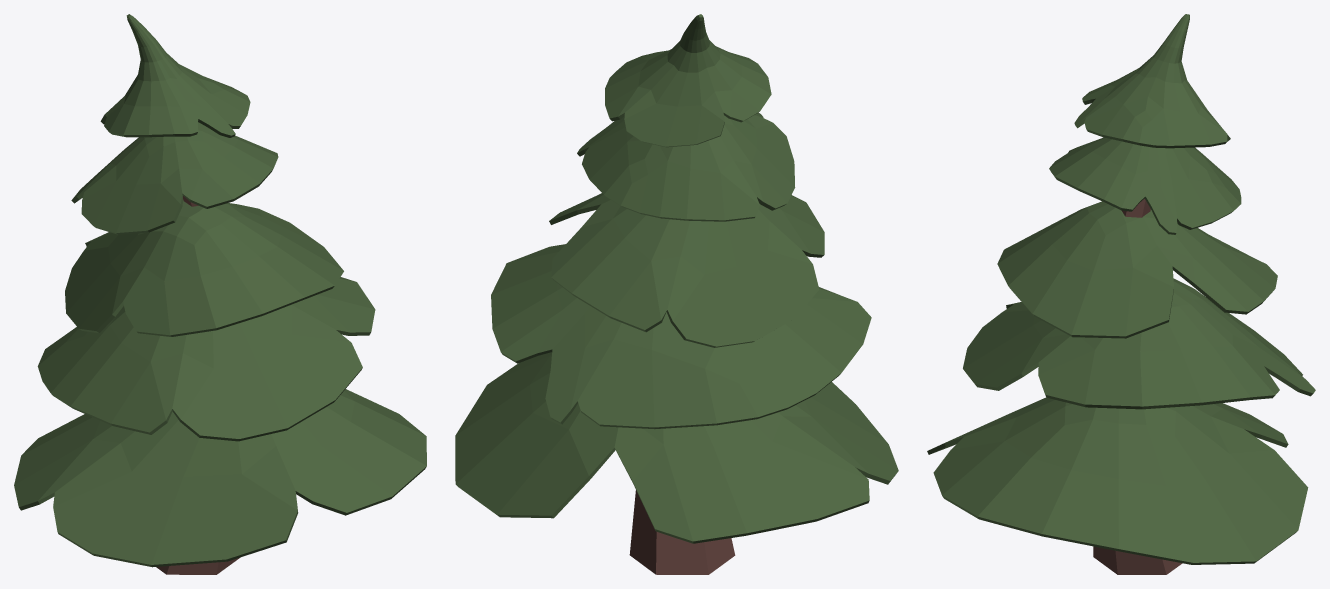
The model's file is PineTree_1.gltf.
The picture shows the model from 3 angles, left to right: view 1: azimuth 30°, elevation 25°; view 2: azimuth 150°, elevation 25°; view 3: azimuth 270°, elevation 25°; orthographic projection. The views are drawn at different scales.
Visible parts, largest first — view 1: PineTree_1; view 2: PineTree_1; view 3: PineTree_1.
Part boxes in pixels (<box>): PineTree_1: <box>14,14,426,574</box>; PineTree_1: <box>455,14,898,574</box>; PineTree_1: <box>927,14,1315,574</box>.
Bounding box in the file's own units: 1.96 × 2.7 × 1.82.
